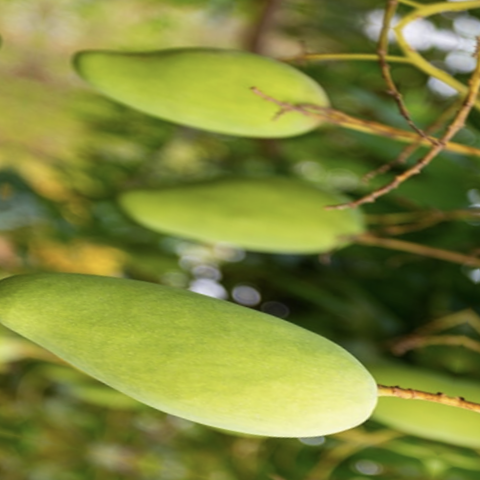mango: (0, 227, 408, 480), (93, 127, 383, 288), (57, 4, 348, 160)
